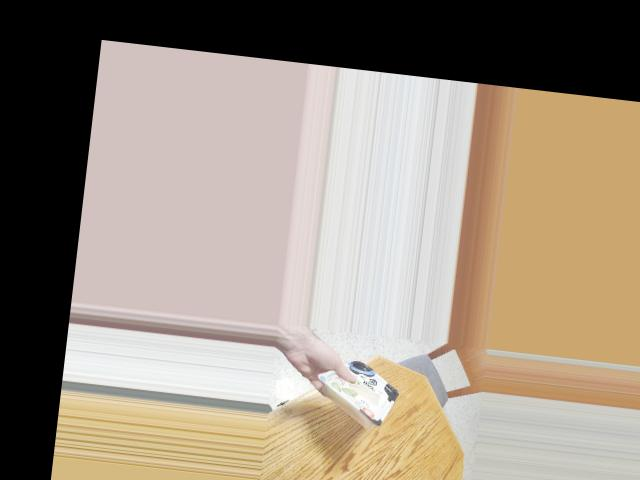cheese: (317, 355, 407, 445)
